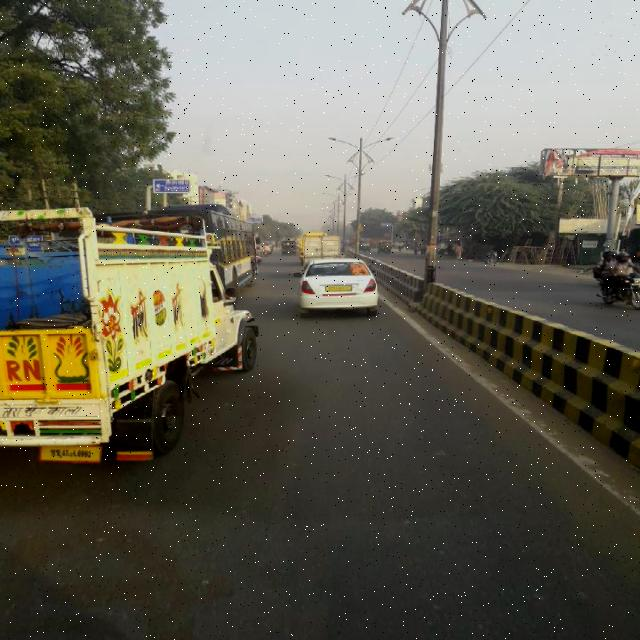D44: (442, 343, 628, 507)
